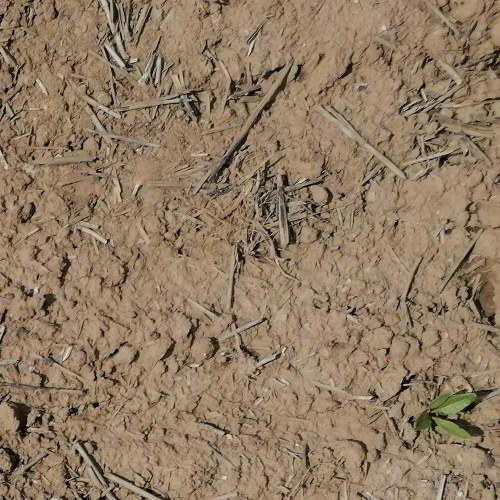beet: (414, 393, 478, 442)
